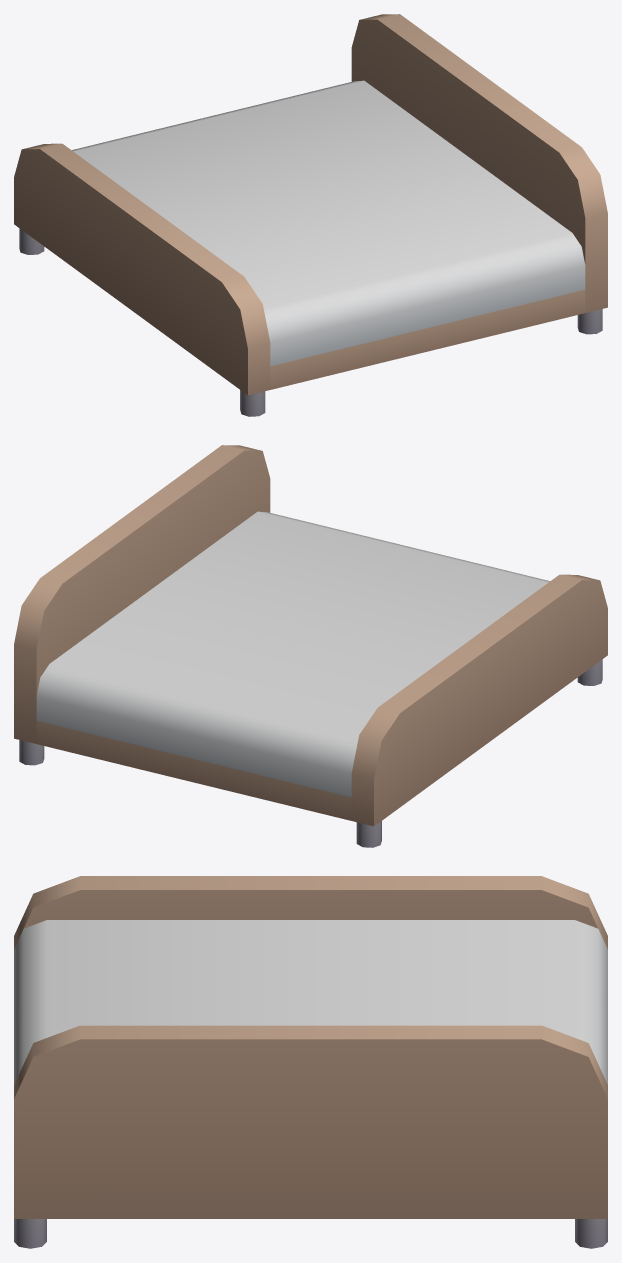
The model's file is bed-rounded-double.glb.
The picture shows the model from 3 angles, top to bottom: view 1: azimuth 30°, elevation 25°; view 2: azimuth 150°, elevation 25°; view 3: azimuth 270°, elevation 25°; orthographic projection. The views are drawn at different scales.
Parts seen in each view (by area): view 1: bed-rounded-double; view 2: bed-rounded-double; view 3: bed-rounded-double.
Boxes of the visible parts, x1,y1,x2,y2 form: bed-rounded-double: [14, 14, 607, 416]; bed-rounded-double: [14, 445, 607, 847]; bed-rounded-double: [14, 876, 607, 1248].
Size of the model in its own units: 1.6 by 0.7 by 1.8.
